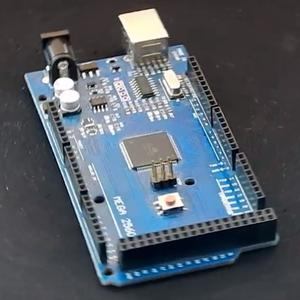duino: (31, 3, 279, 288)
